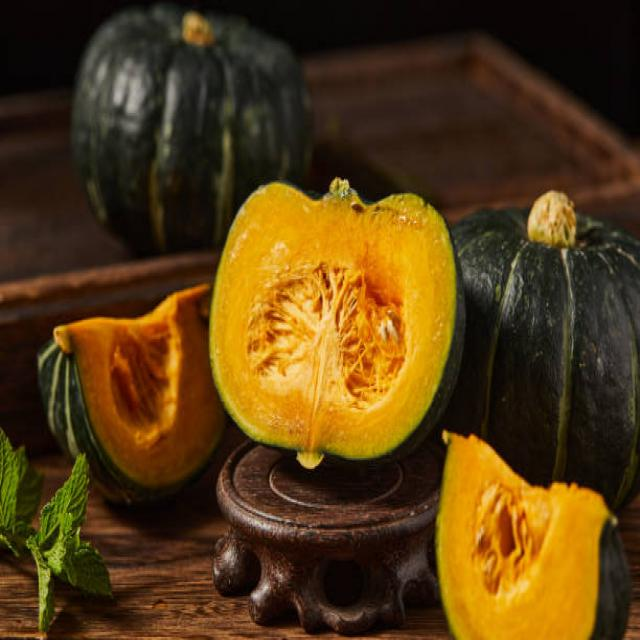pumpkin: (210, 178, 459, 469), (458, 183, 640, 443), (427, 417, 631, 640), (73, 7, 320, 182), (35, 287, 213, 499)
